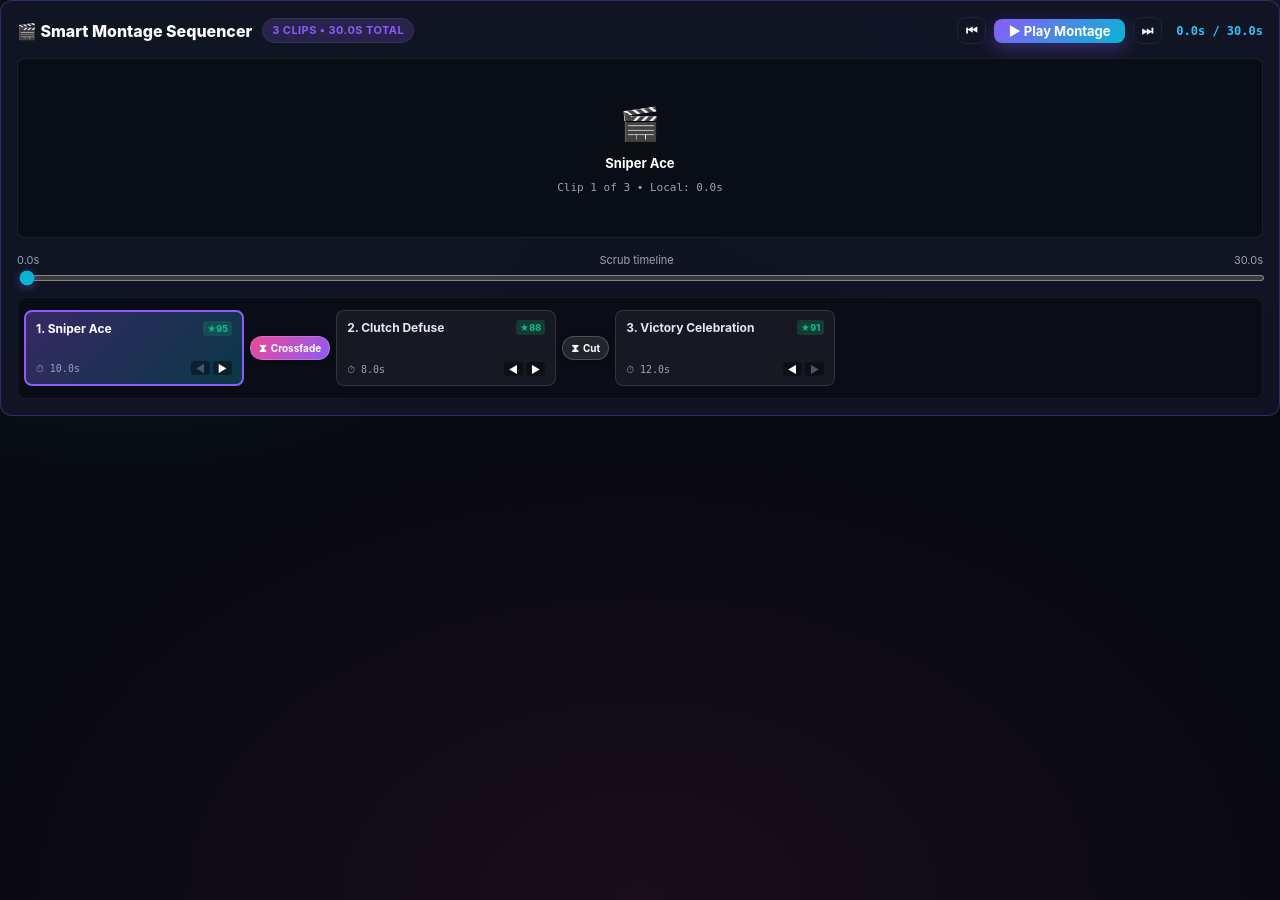
Scenario: Milestone M4: Montage Timeline & Phone Platform Simulator › MontageTimeline Component › magnetic snapping: playhead snaps to clip cut points within +/-0.15s and displays guide
Set the slider with test id "montage-scrubber" to "10.08": [440, 278] box [19, 274, 1265, 280]
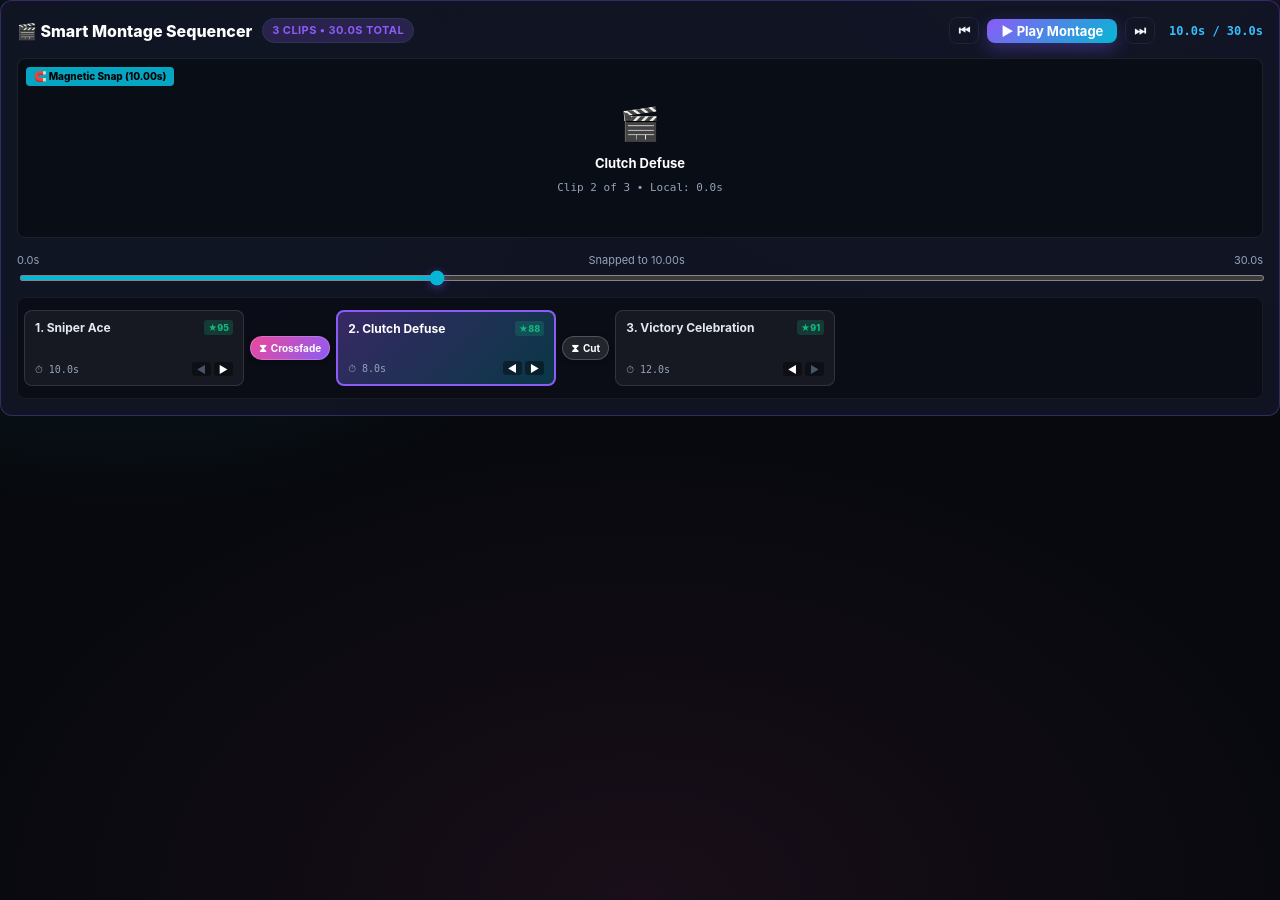
Result: the text with test id "magnetic-snap-guide" shows "10.00s" at [26, 67, 174, 86]
Result: the text with test id "montage-time-display" shows "10.0s" at [1169, 22, 1263, 40]
Set the slider with test id "montage-scrubber" to "14.5": [622, 278] box [19, 274, 1265, 280]
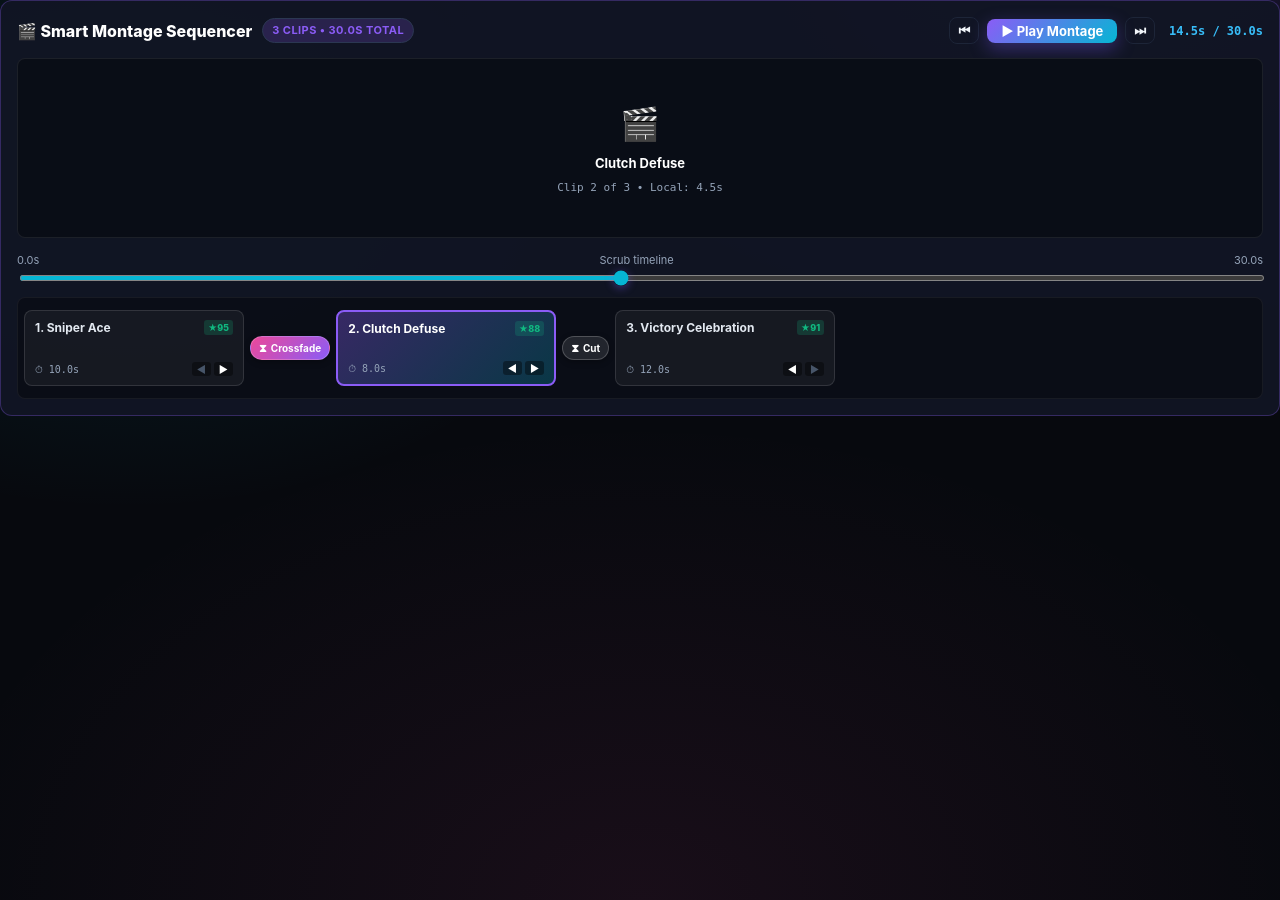
Result: the text with test id "magnetic-snap-guide" is gone
Result: the text with test id "montage-time-display" shows "14.5s" at [1169, 22, 1263, 40]
